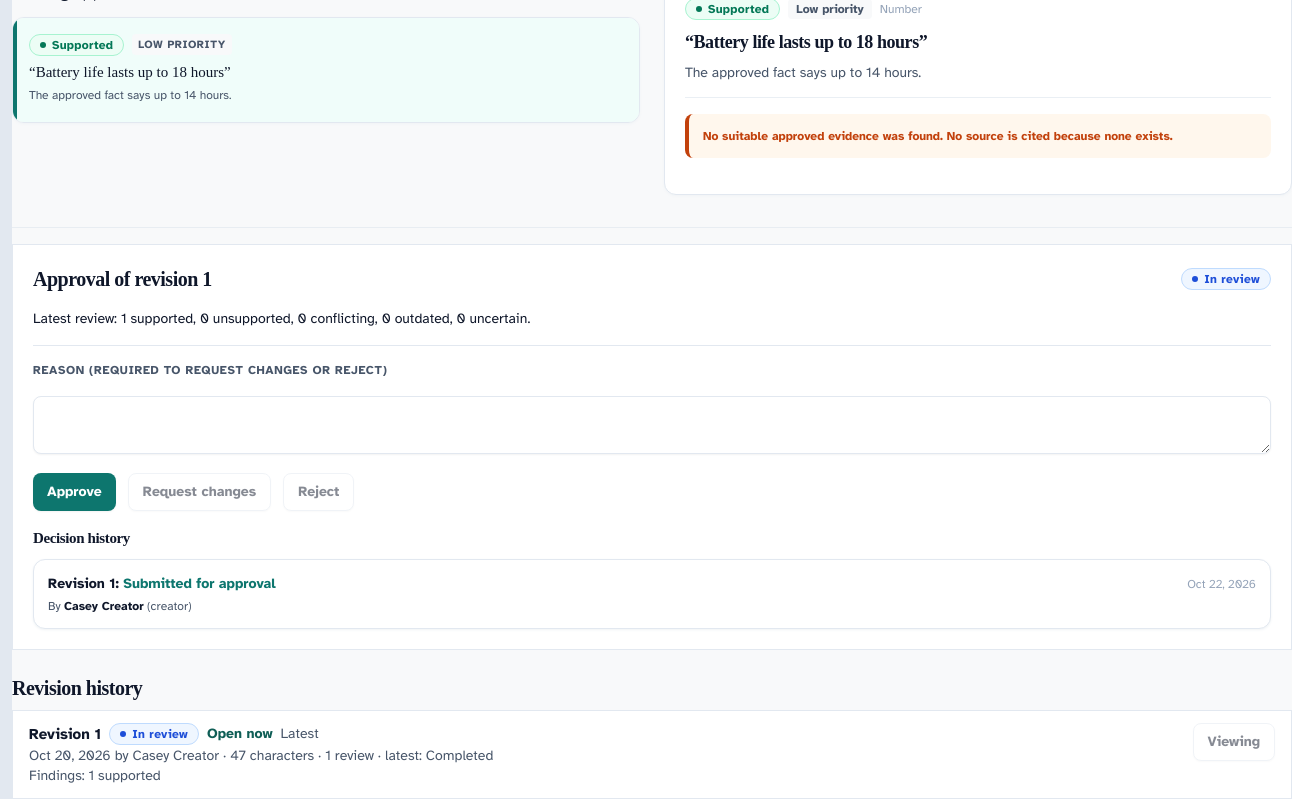
Approval panel (Phase 4) › P4-U12: a reviewer approves and the approval and its history come from the backend
(page scrolled)
Type "Matches the spec." into the text box labelled "Reason (required to request changes or reject)" at [652, 425], box [33, 396, 1271, 454]
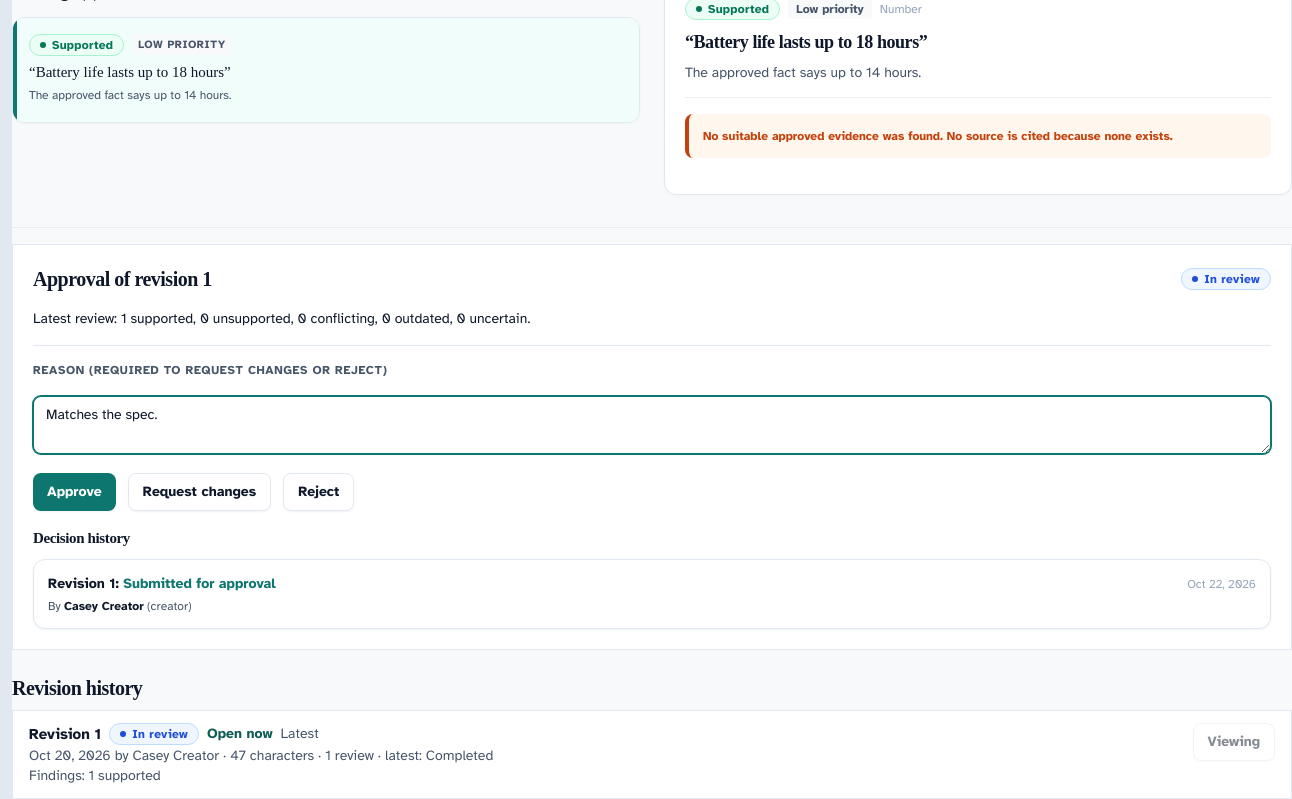
Click the button "Approve" at [74, 492], box [33, 473, 116, 511]
(page scrolled)
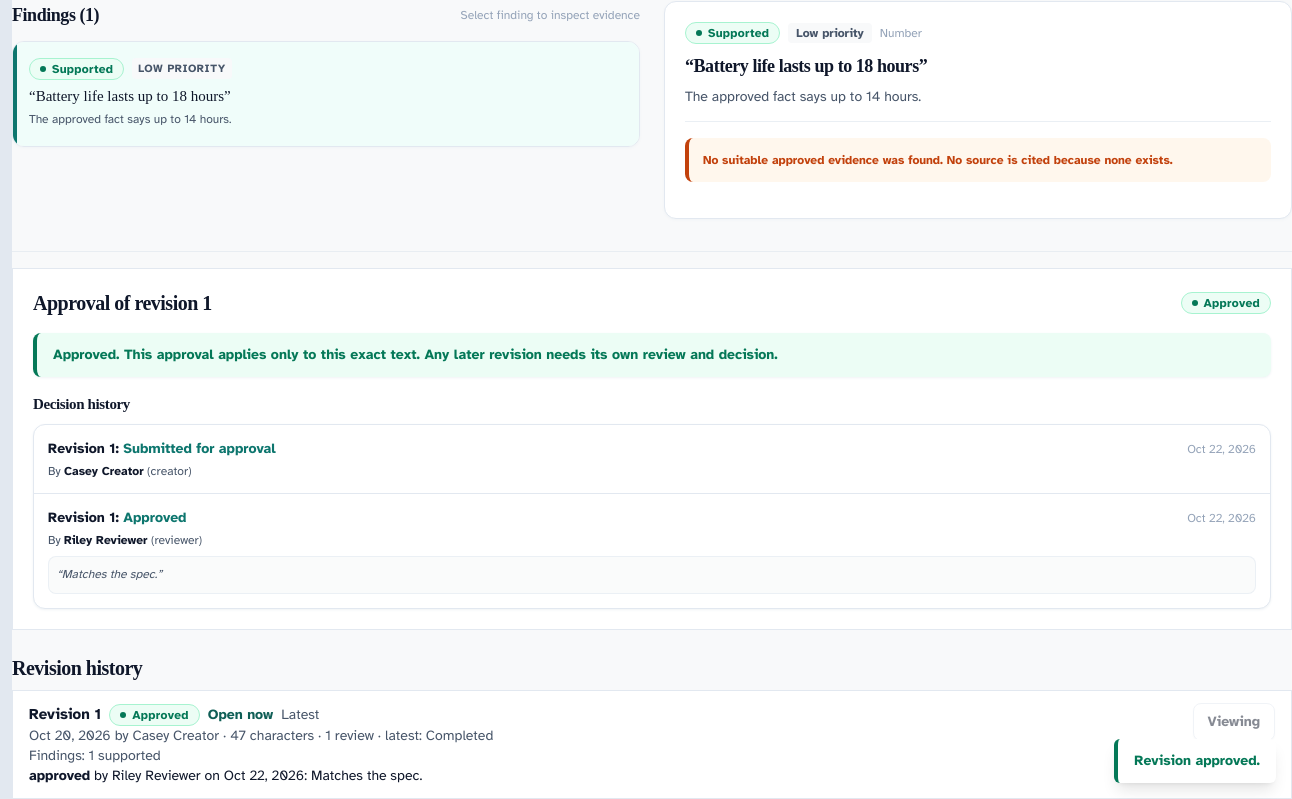
Expected: the element with test id "workflow-status" reads "Approved", [1204, 296, 1260, 310]
Expected: the text with test id "approved-note" shows "applies only to this exact text", [53, 346, 778, 363]
Expected: the list with test id "event-list" shows "Approved", [123, 509, 186, 526]
